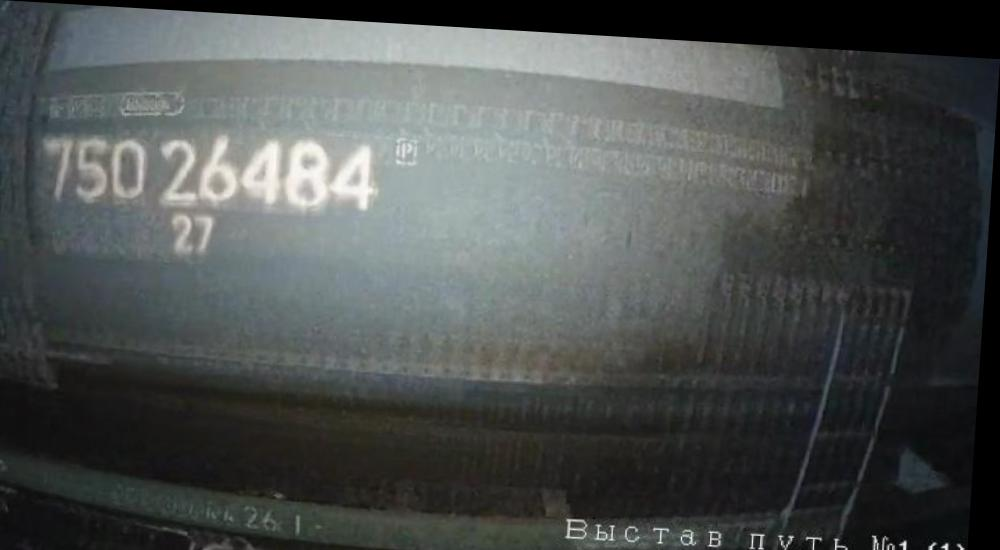Wagon-number: (41, 120, 387, 216)
